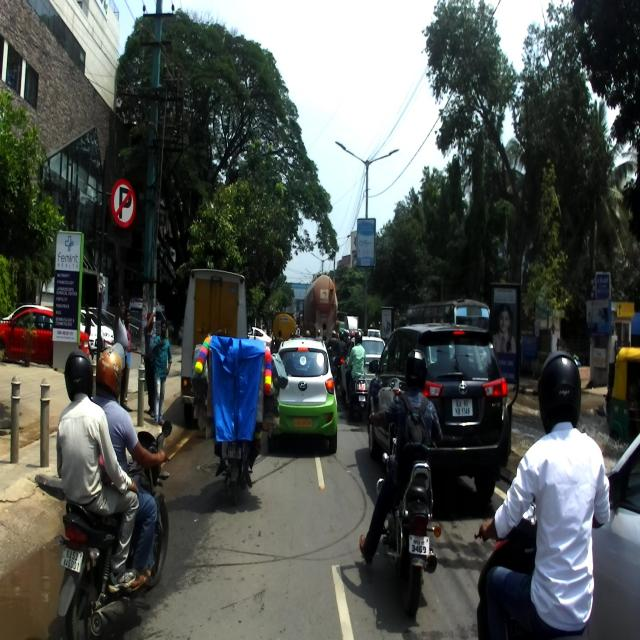Car_Hyundai: (266, 338, 338, 454)
Car_Toyota: (366, 322, 509, 499)
motorcycle_Honda: (56, 418, 172, 640)
motorcycle_TVS: (216, 364, 254, 506)
motorcycle_bajaj: (369, 411, 442, 616)
scooter: (474, 500, 589, 638)
truck: (180, 267, 247, 424)
